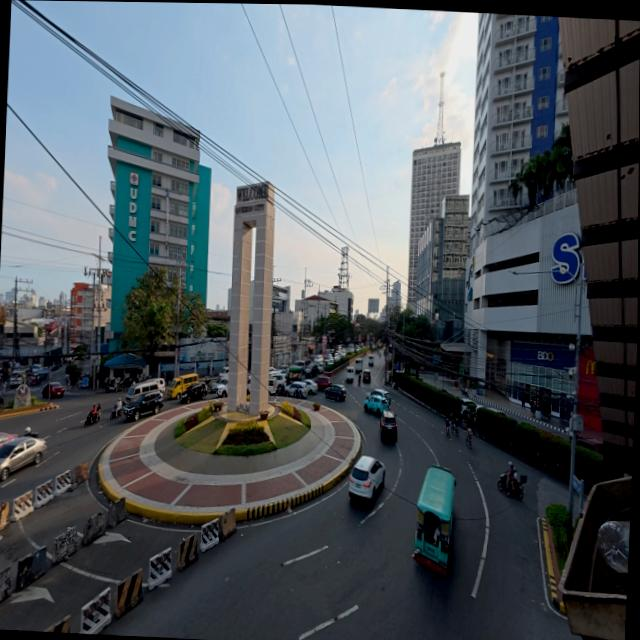car: (118, 375, 167, 419), (345, 452, 386, 504), (362, 384, 390, 412), (325, 382, 349, 403)
